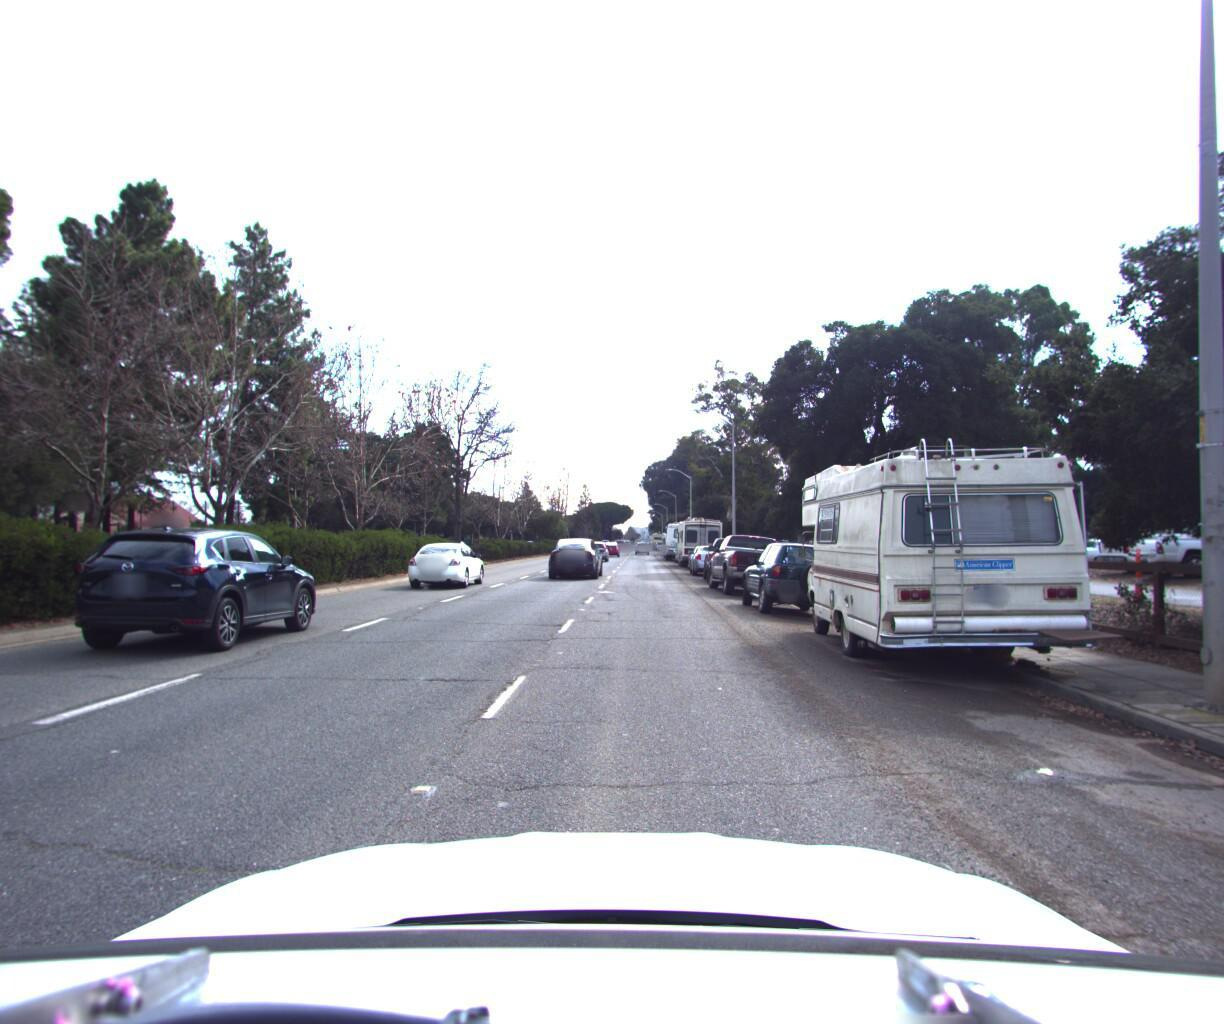car: (70, 518, 333, 660), (736, 534, 850, 615), (703, 524, 803, 597), (406, 533, 489, 588), (699, 529, 761, 580), (547, 533, 606, 578), (686, 537, 735, 573), (583, 533, 614, 557), (601, 535, 625, 553)
other_vehicle: (785, 422, 1121, 690), (671, 507, 725, 560), (660, 513, 702, 555)
